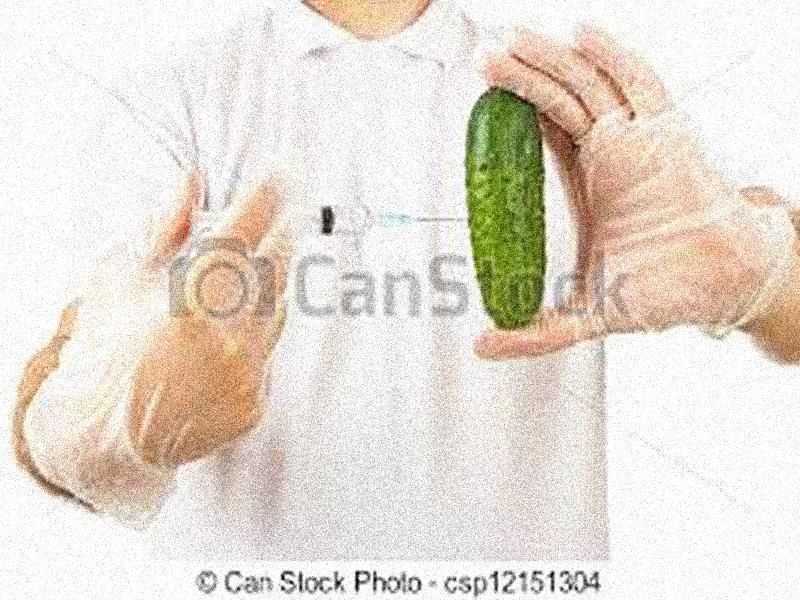Cucumber: (468, 87, 548, 334)
